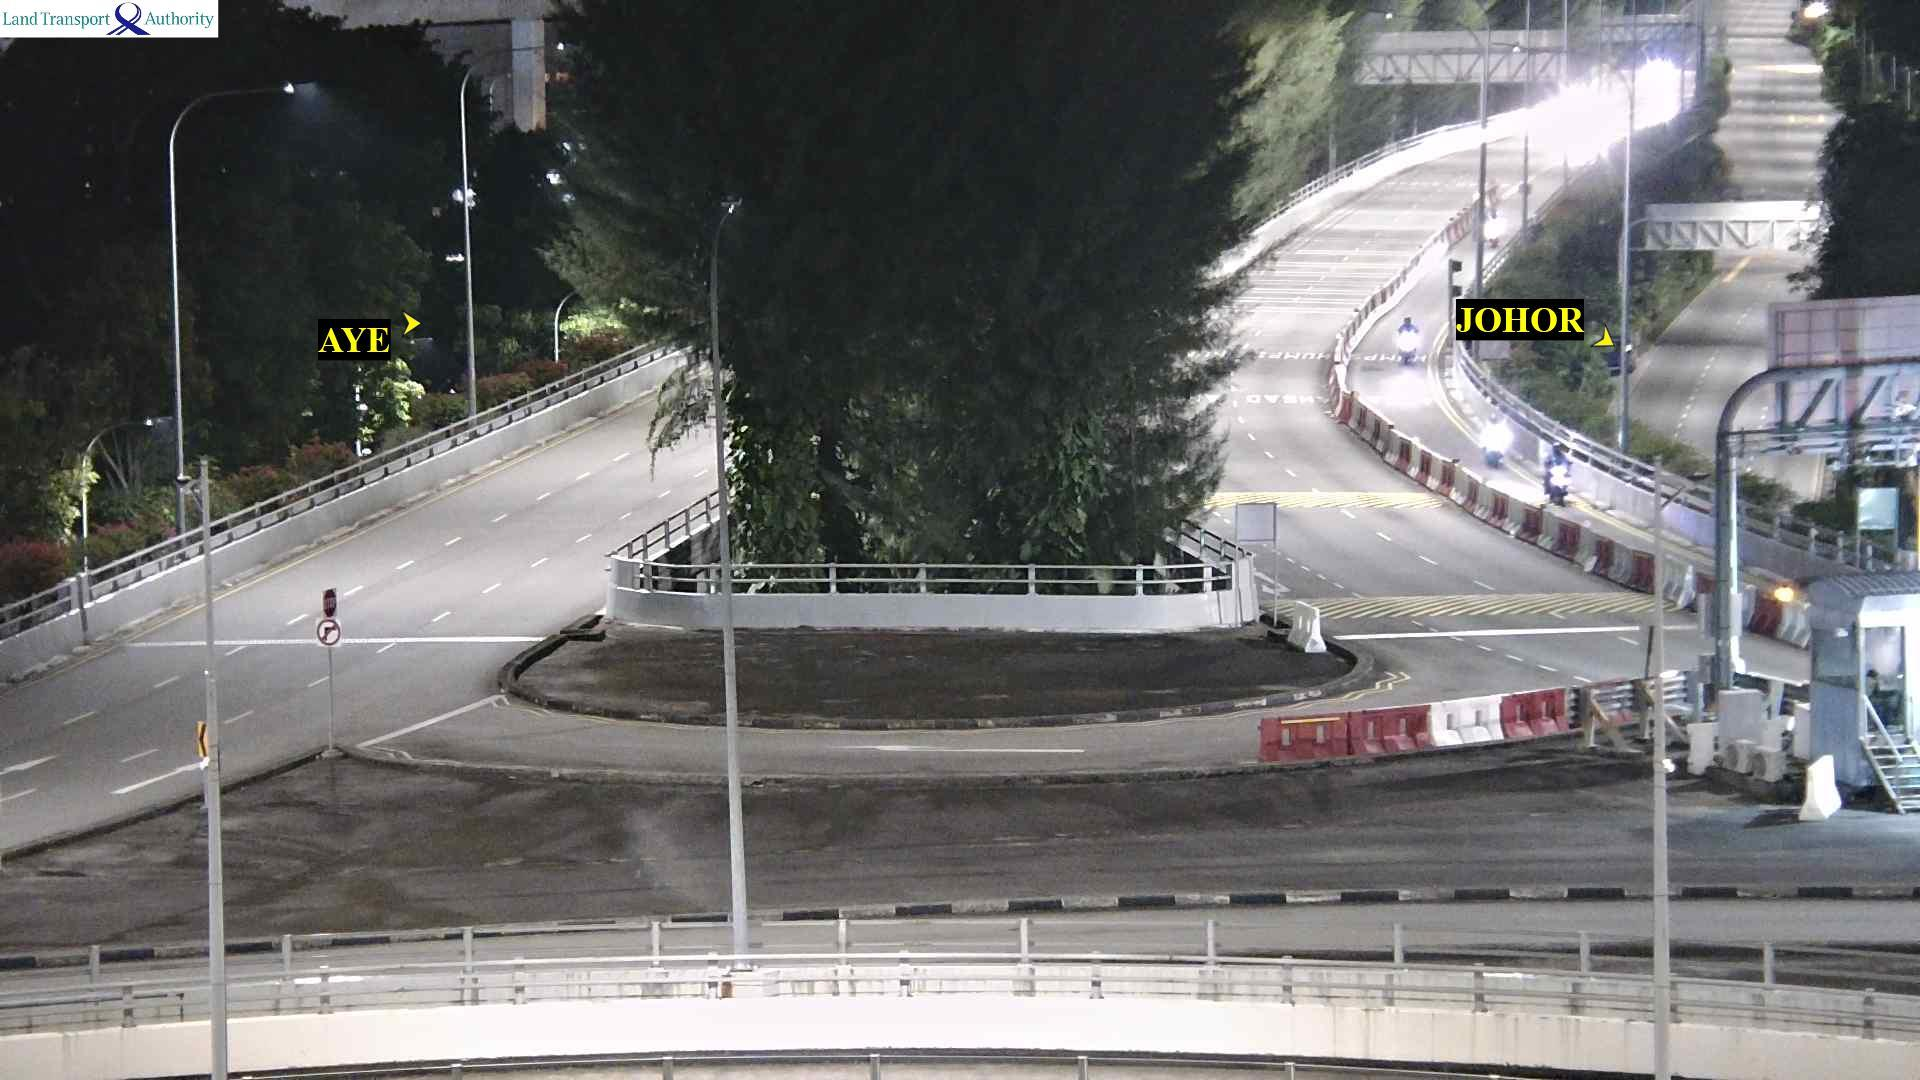vehicle-secondlink-johor: (1543, 441, 1571, 508), (1479, 408, 1510, 464), (1395, 315, 1416, 363)
